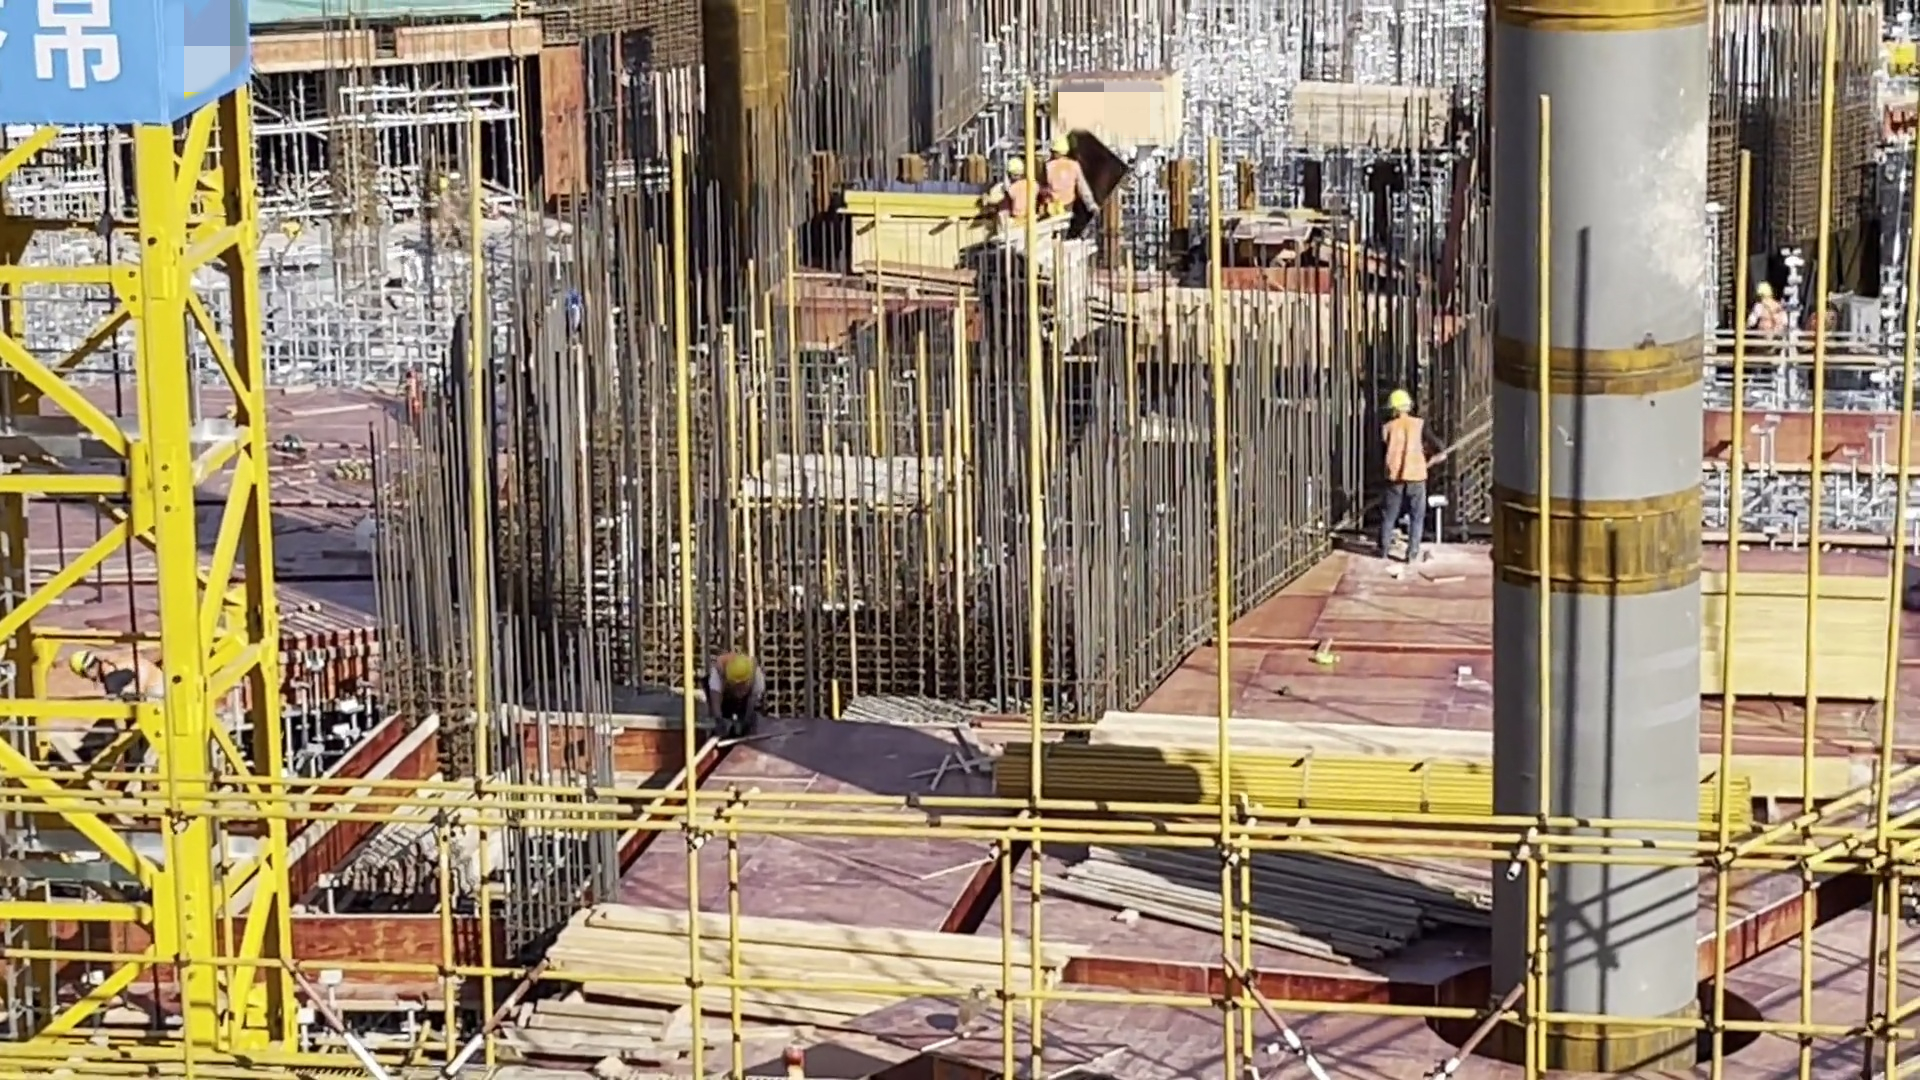helmet: (1384, 376, 1415, 423), (1007, 155, 1033, 184), (1044, 133, 1071, 159), (1755, 281, 1776, 302)
person: (1372, 386, 1443, 572), (69, 633, 168, 722), (1048, 131, 1100, 238), (712, 643, 769, 738), (1751, 277, 1788, 388), (993, 155, 1045, 233)
vest: (115, 650, 171, 708), (1382, 417, 1427, 486), (1044, 158, 1083, 211), (1006, 177, 1038, 222)
